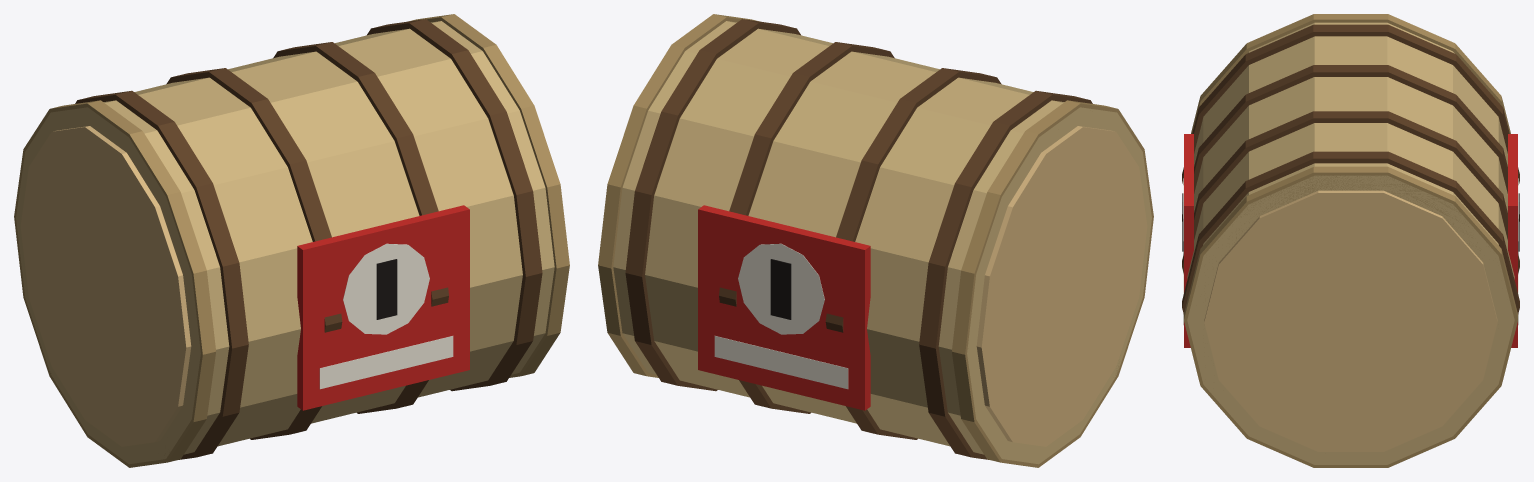
The model's file is p_taru.glb.
3 views of the same model, side by side, from view 1: azimuth 30°, elevation 25°; view 2: azimuth 150°, elevation 25°; view 3: azimuth 270°, elevation 25° (orthographic). The views are drawn at different scales.
Parts seen in each view (by area): view 1: taru; view 2: taru; view 3: taru.
Boxes of the visible parts, left/top/right/bottom form: taru: left=14, top=14, right=569, bottom=467; taru: left=598, top=14, right=1153, bottom=467; taru: left=1182, top=14, right=1519, bottom=467.
Size of the model in its own units: 1.13 by 0.9652 by 0.99.
